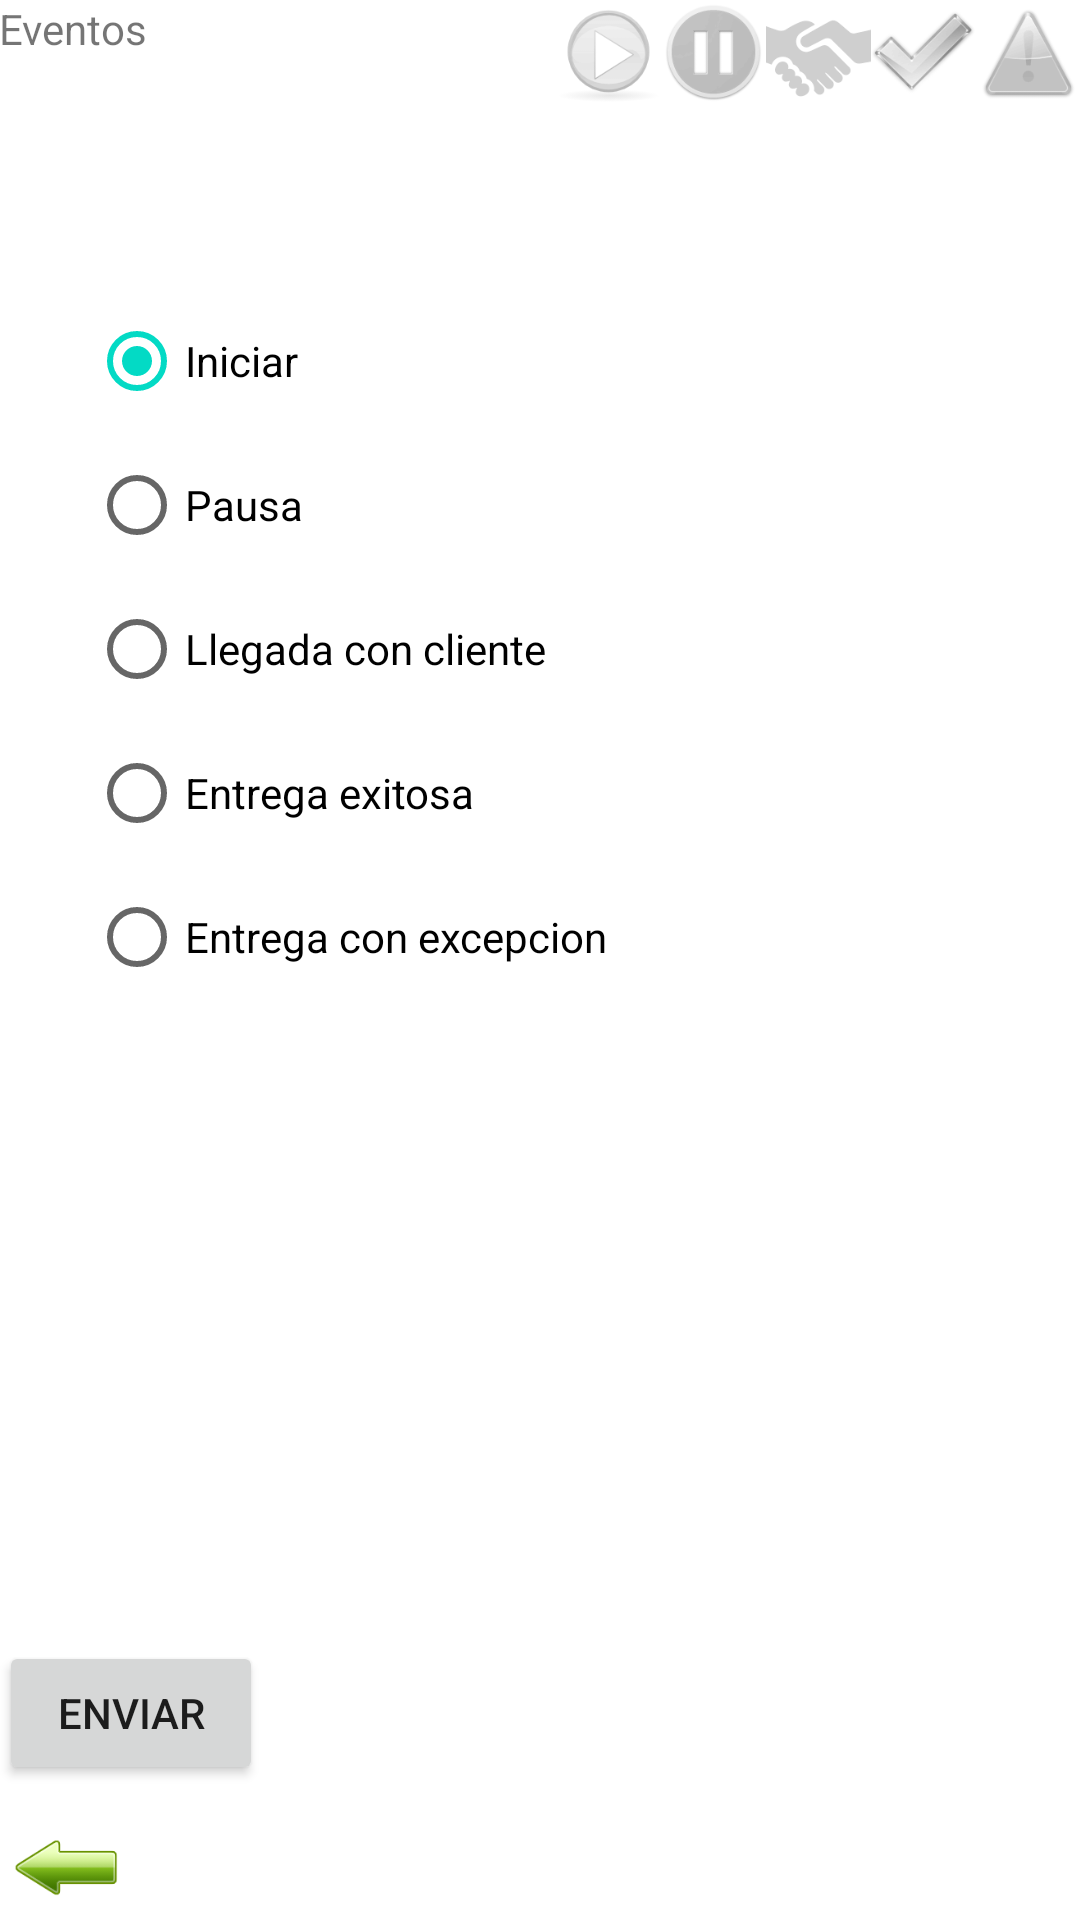

Icons on this 1080 x 1920 Android screen, each with the point to tap as (x=x, y=y):
alertgray: (x=1028, y=54)
back: (x=66, y=1867)
handshakegray: (x=818, y=58)
okgray: (x=923, y=51)
pausegray: (x=713, y=55)
playgray: (x=608, y=52)
